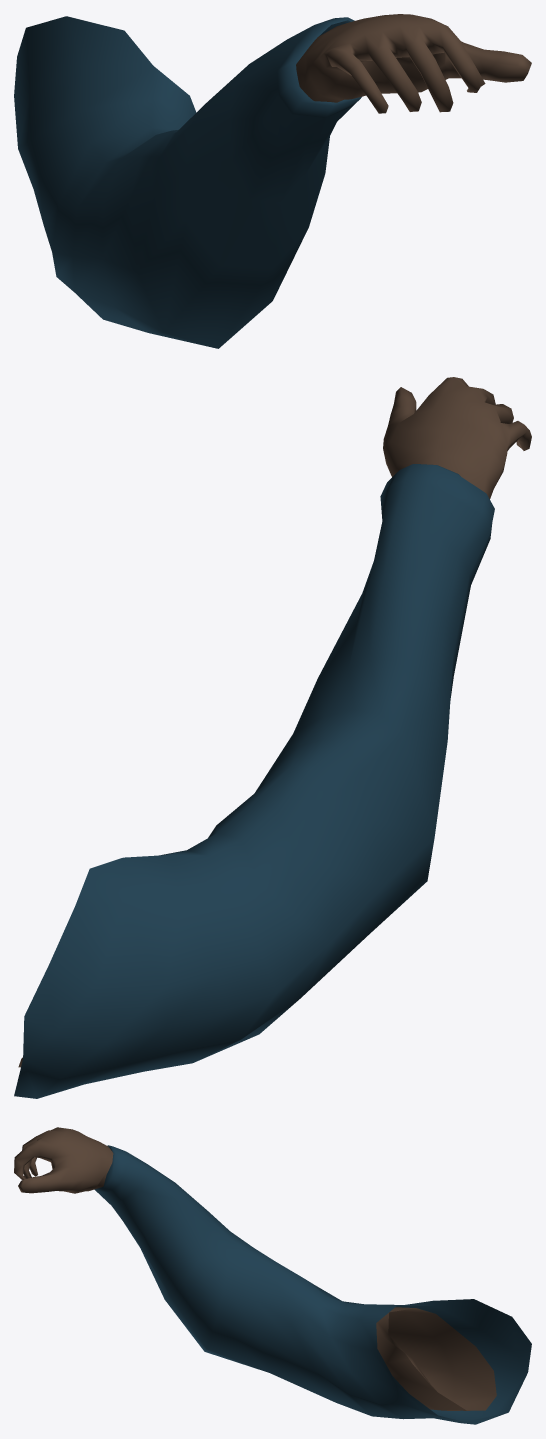
The model's file is Arm.fbx.
3 views of the same model, one above another, from view 1: azimuth 30°, elevation 25°; view 2: azimuth 150°, elevation 25°; view 3: azimuth 270°, elevation 25° (orthographic). The views are drawn at different scales.
Visible parts, largest first — view 1: Arm.001; view 2: Arm.001; view 3: Arm.001.
Boxes of the visible parts, <box> form: Arm.001: <box>14,14,531,348</box>; Arm.001: <box>14,377,531,1098</box>; Arm.001: <box>14,1127,531,1424</box>.
Bounding box in the file's own units: 0.2096 × 0.4493 × 0.7672.
